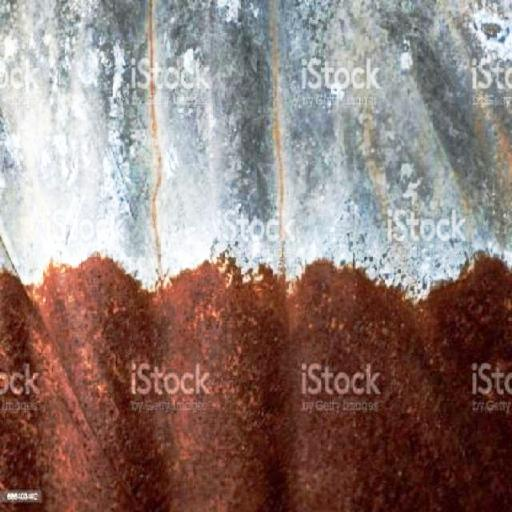corrosion: (1, 229, 512, 512)
